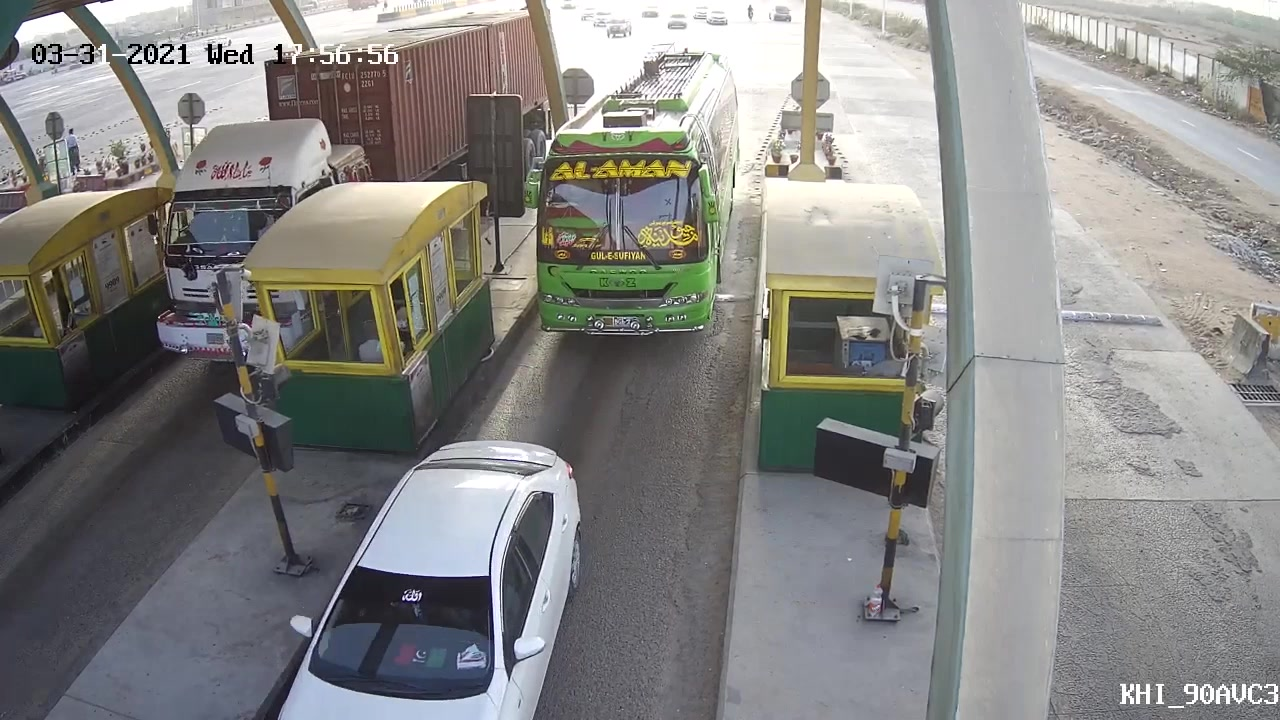F4: (518, 48, 745, 337)
